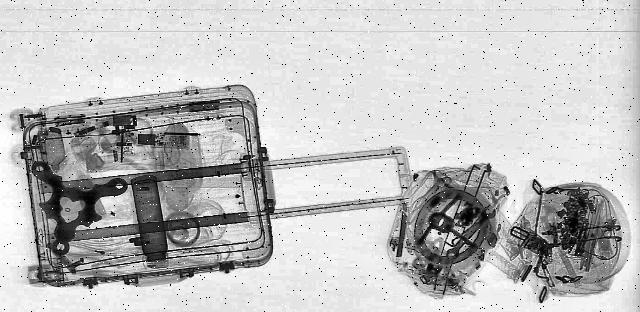Wrench: (441, 204, 505, 260)
